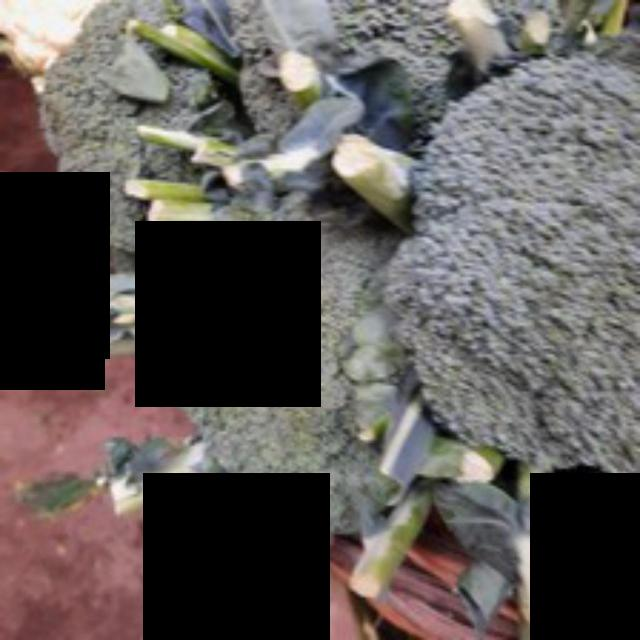broccoli: (386, 69, 636, 462)
